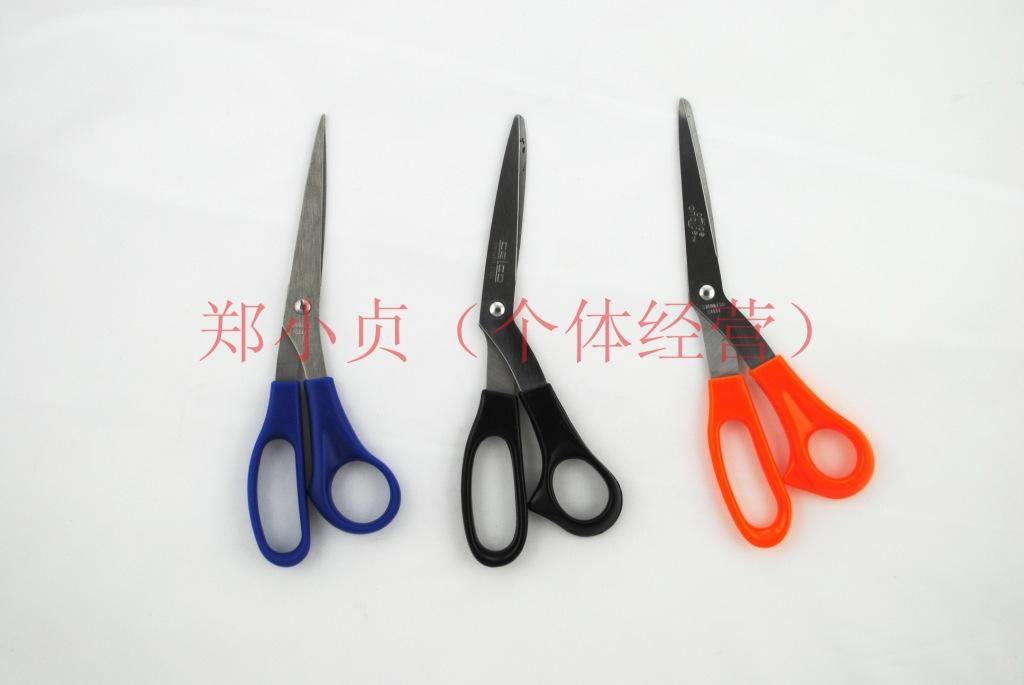scissor: (194, 83, 886, 605)
